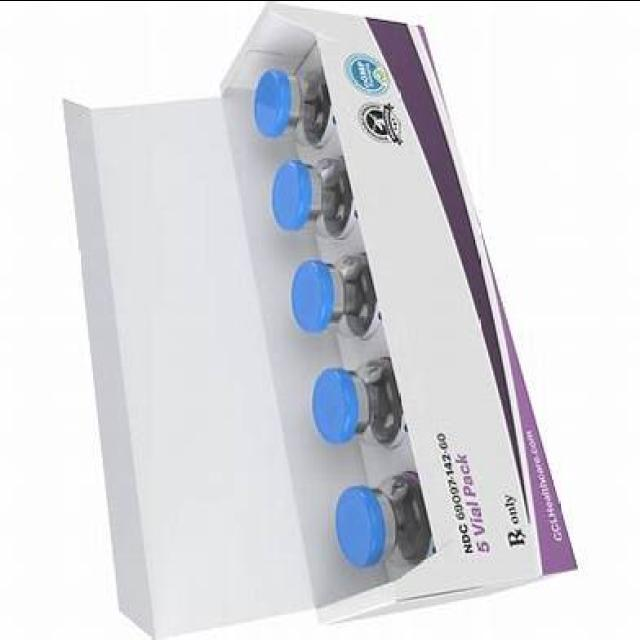vial: (338, 470, 384, 560), (306, 364, 352, 452), (292, 256, 334, 334), (254, 68, 294, 138), (276, 164, 314, 232)
